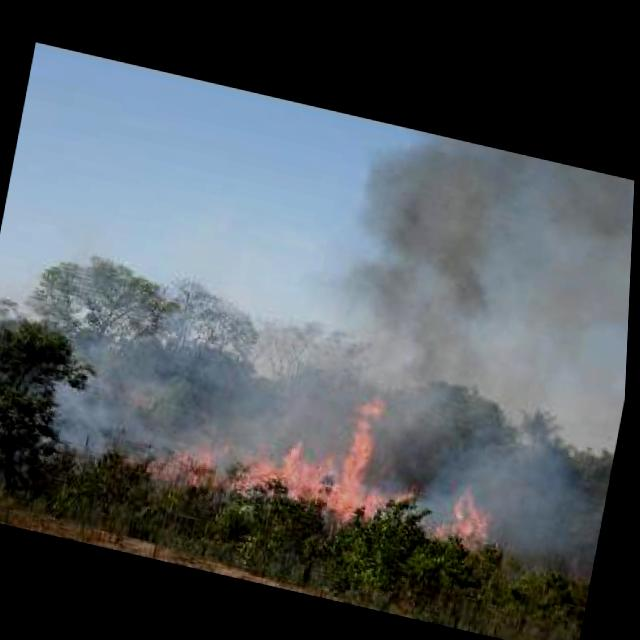helmet: (162, 340, 402, 527), (439, 473, 509, 539)
no_helmet: (345, 125, 619, 348)
